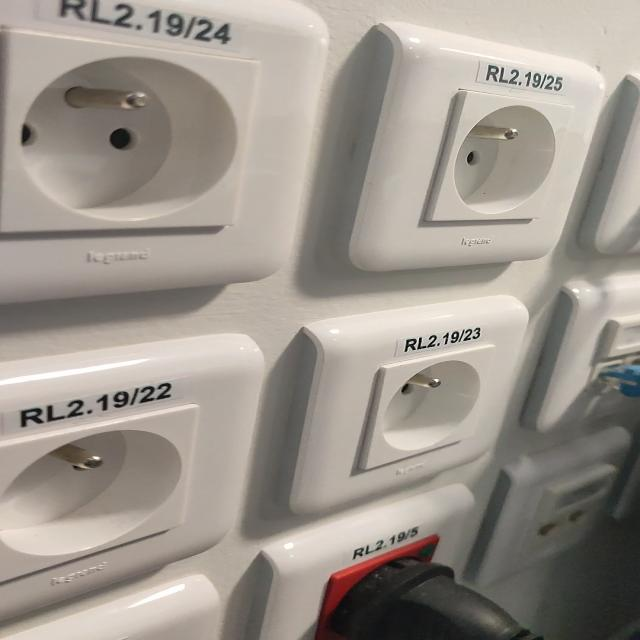house plug: (0, 28, 262, 234), (0, 404, 199, 586), (429, 92, 576, 221), (364, 345, 491, 470)
